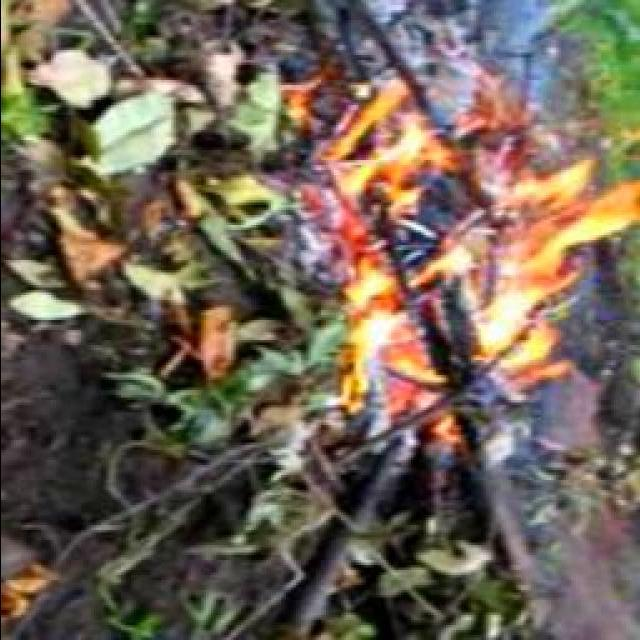Fire: (314, 95, 634, 410)
